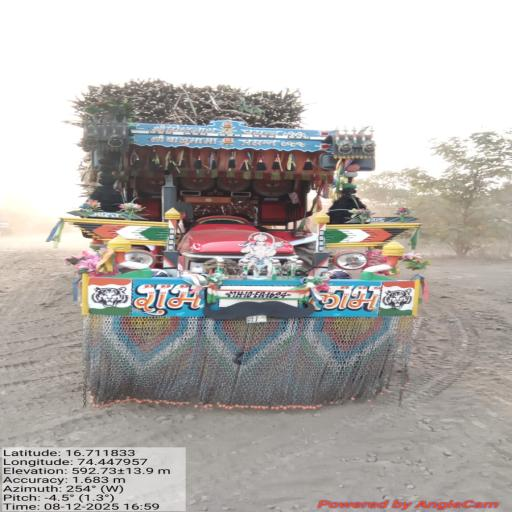number_plate: (222, 287, 308, 307)
